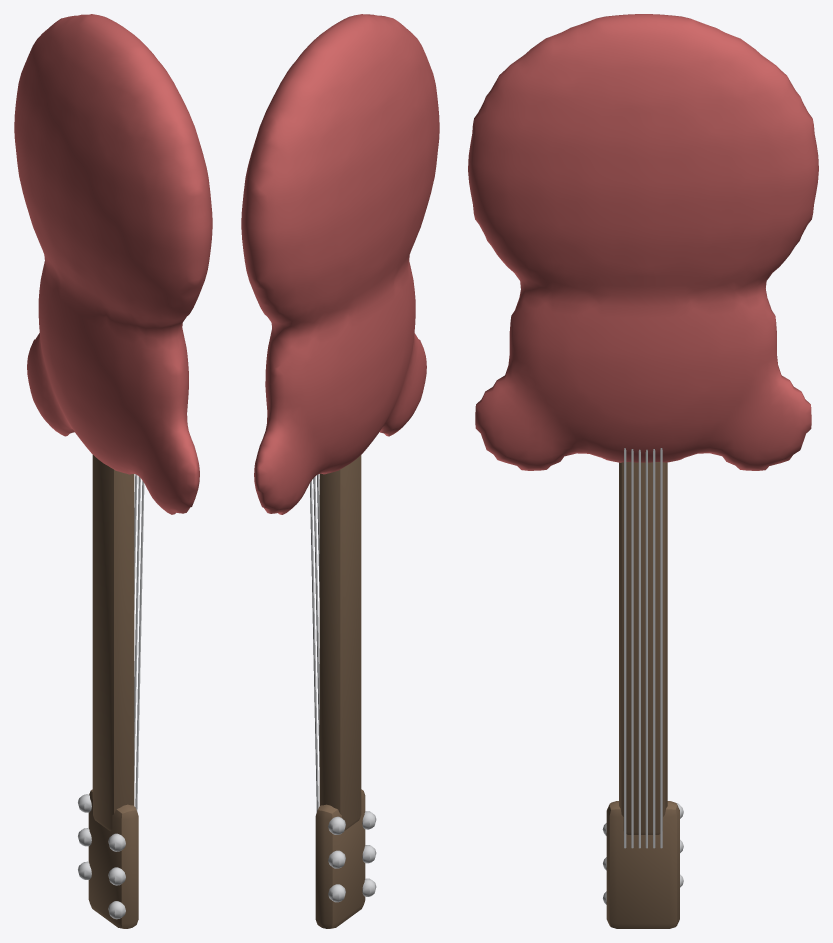
File: SM_Guitar.glb
The picture shows the model from 3 angles, left to right: view 1: azimuth 30°, elevation 25°; view 2: azimuth 150°, elevation 25°; view 3: azimuth 270°, elevation 25°; orthographic projection. The views are drawn at different scales.
Visible parts, largest first — view 1: SM_Guitar; view 2: SM_Guitar; view 3: SM_Guitar.
Part boxes in pixels (x1,y1,x2,y2): SM_Guitar: (14, 14, 212, 928); SM_Guitar: (241, 14, 439, 928); SM_Guitar: (468, 14, 818, 928).
Bounding box in the file's own units: 0.1323 × 1.16 × 0.4062.
